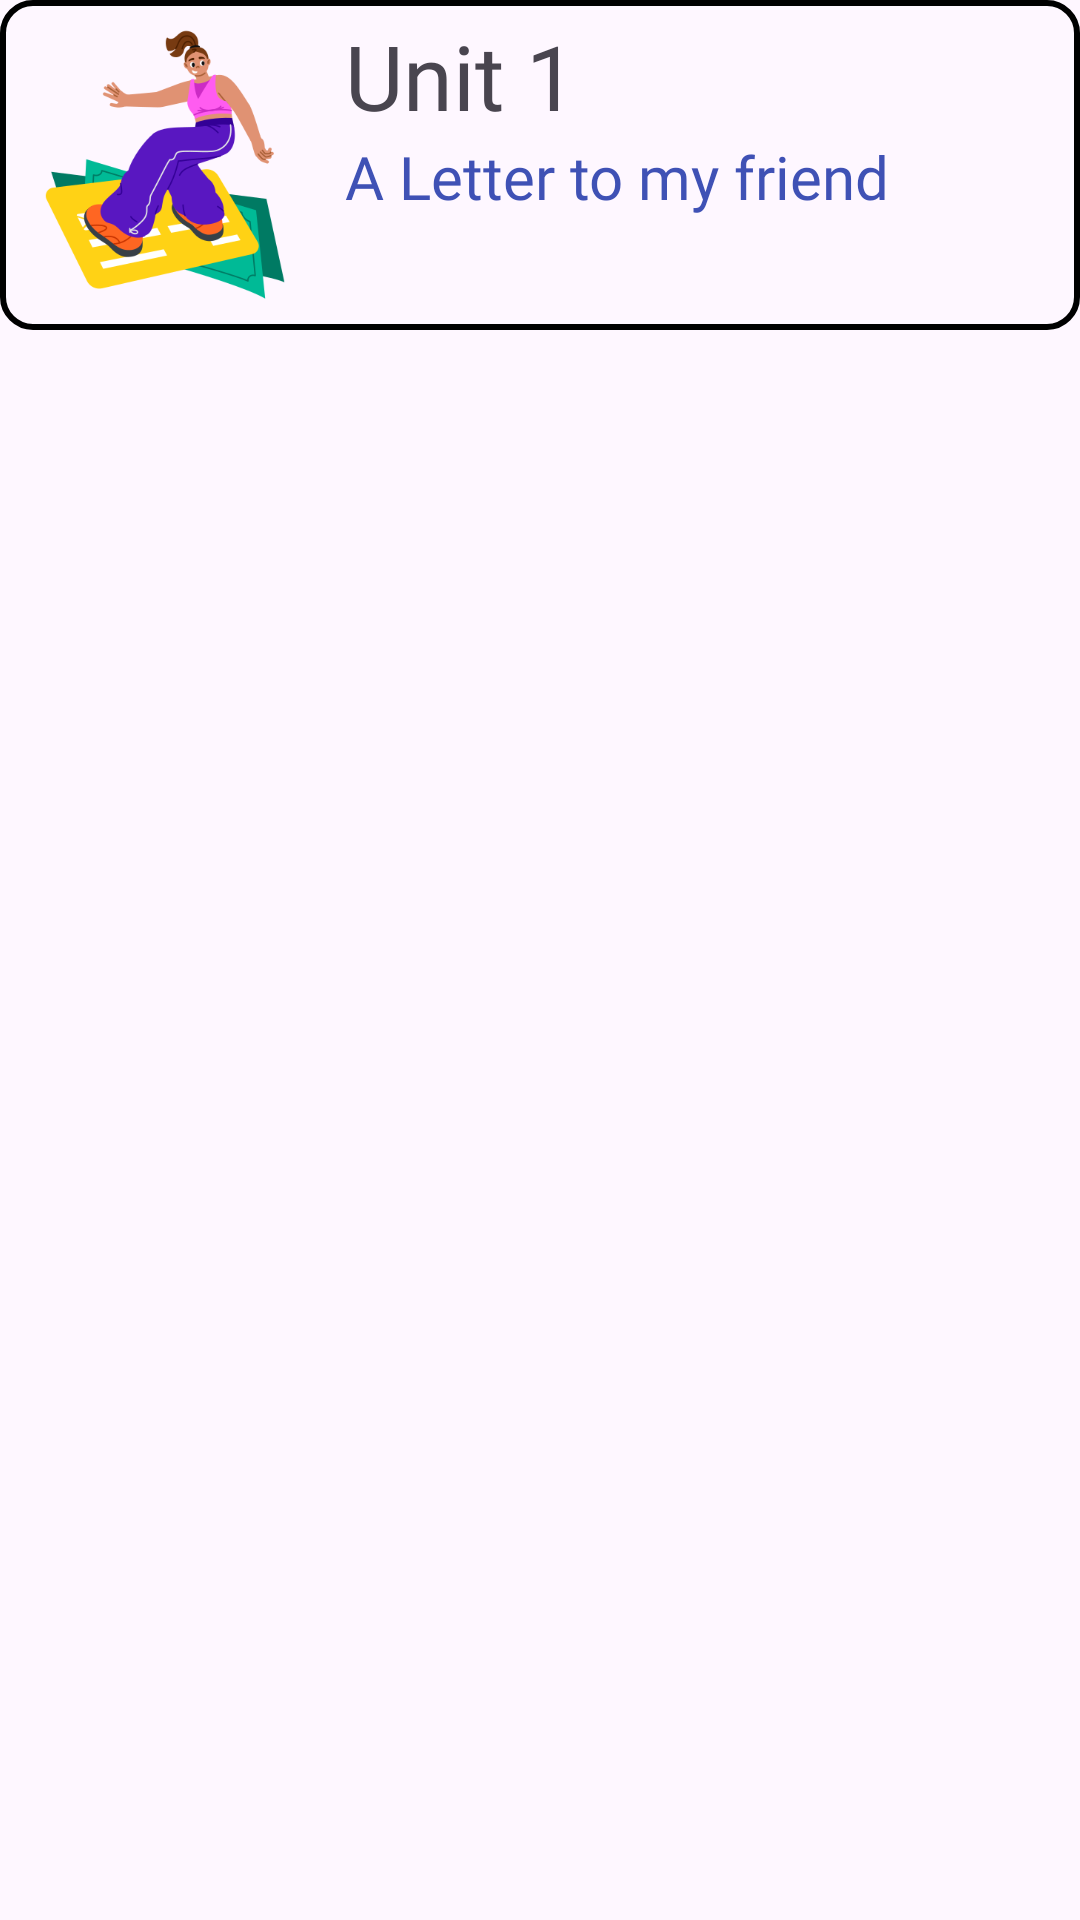

Icon bounding boxes for this 1080×1920 phone screenshot, format (x1, y1, x2, y2):
women homefrag: (45, 30, 285, 299)
